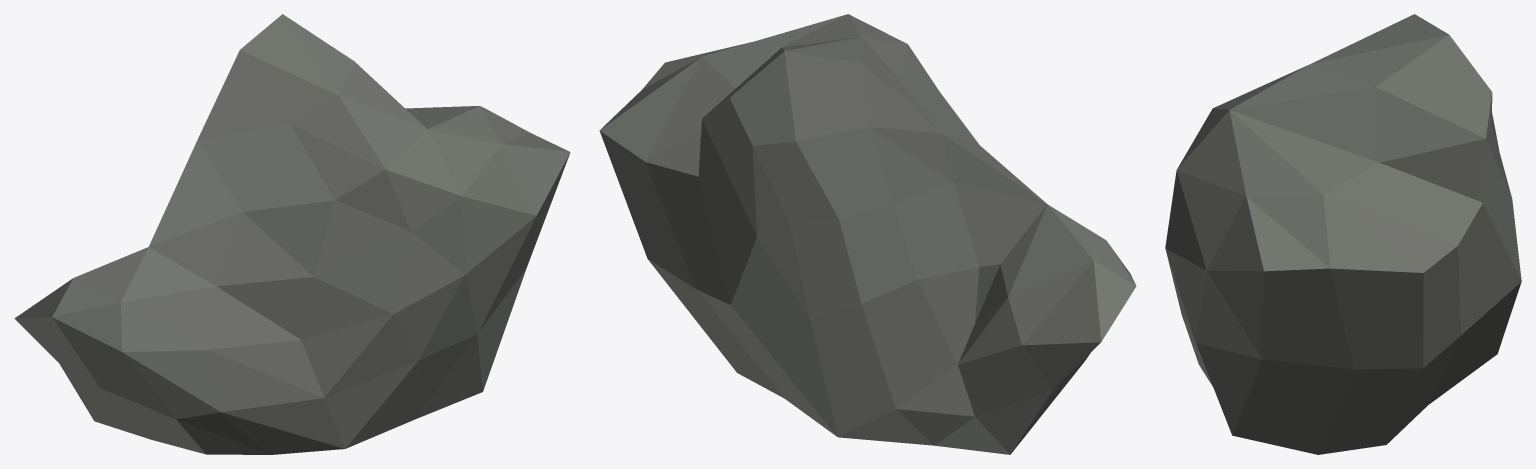
Rendered from Stein3.fbx.
The picture shows the model from 3 angles, left to right: view 1: azimuth 30°, elevation 25°; view 2: azimuth 150°, elevation 25°; view 3: azimuth 270°, elevation 25°; orthographic projection. The views are drawn at different scales.
Visible parts, largest first — view 1: Stein4; view 2: Stein4; view 3: Stein4.
Part boxes in pixels (x1,y1,x2,y2): Stein4: (14,14,570,454); Stein4: (599,14,1136,454); Stein4: (1165,14,1521,454).
Size of the model in its own units: 300 by 215 by 178.
